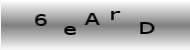6: (33, 12, 48, 26)
A: (83, 11, 101, 27)
D: (139, 21, 156, 37)
e: (63, 25, 78, 36)
r: (109, 10, 122, 20)
